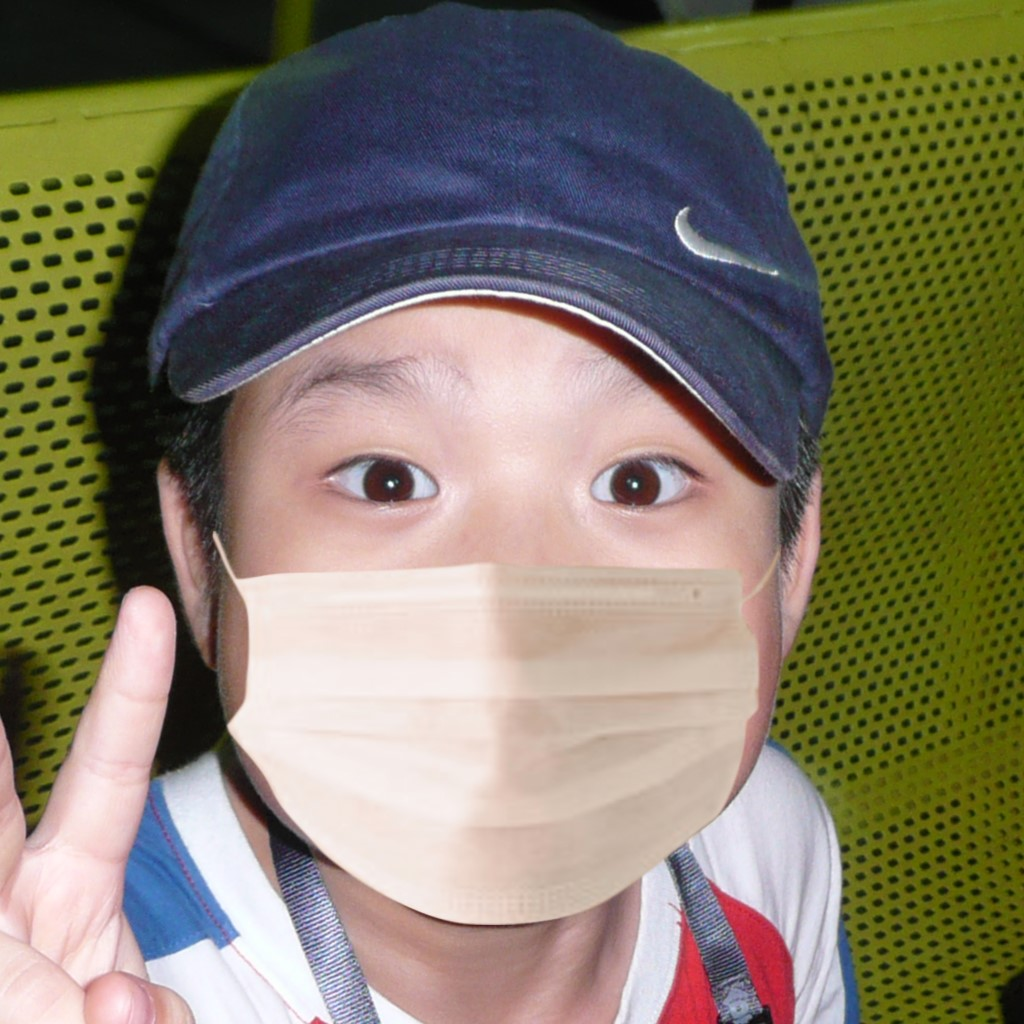con_mascara: (184, 85, 781, 930)
